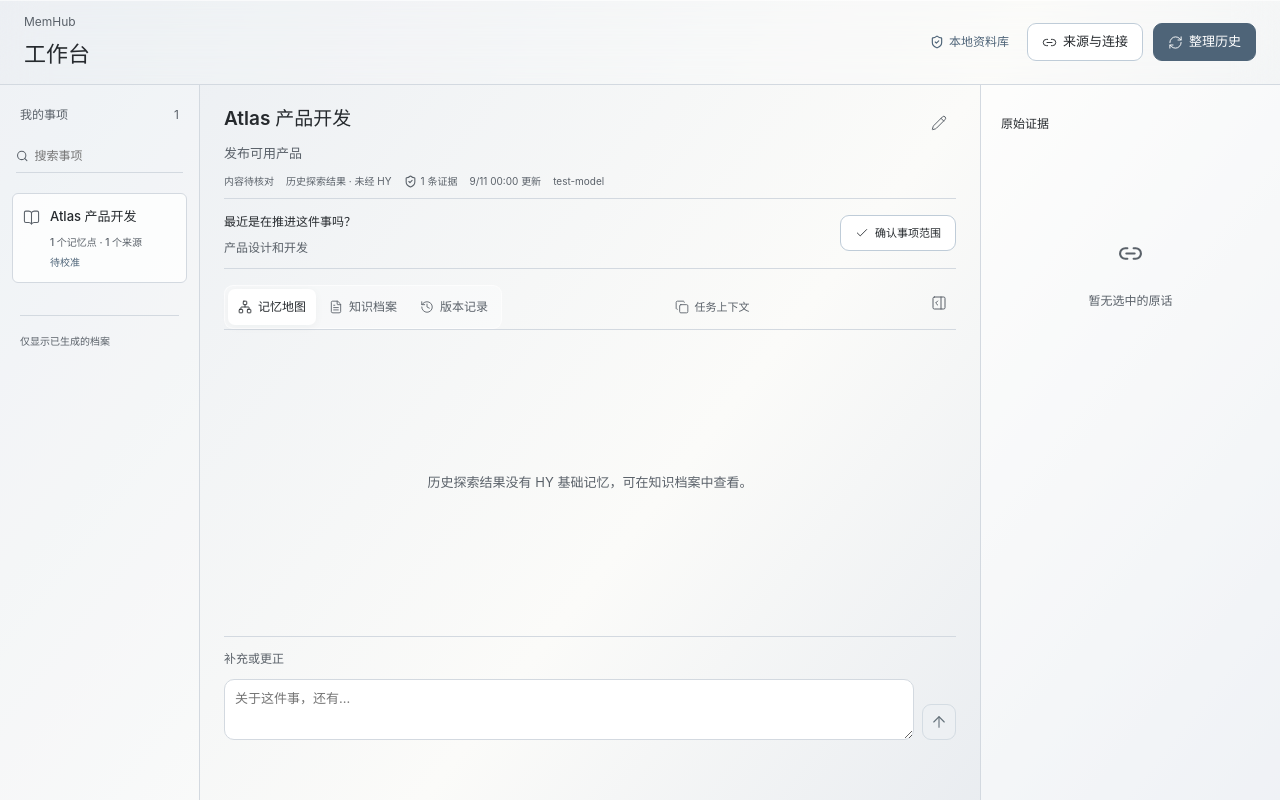
Test: clears history and ignores its late response after source revocation
Click the tab "版本记录". click: (454, 307)
box: [410,289,498,325]
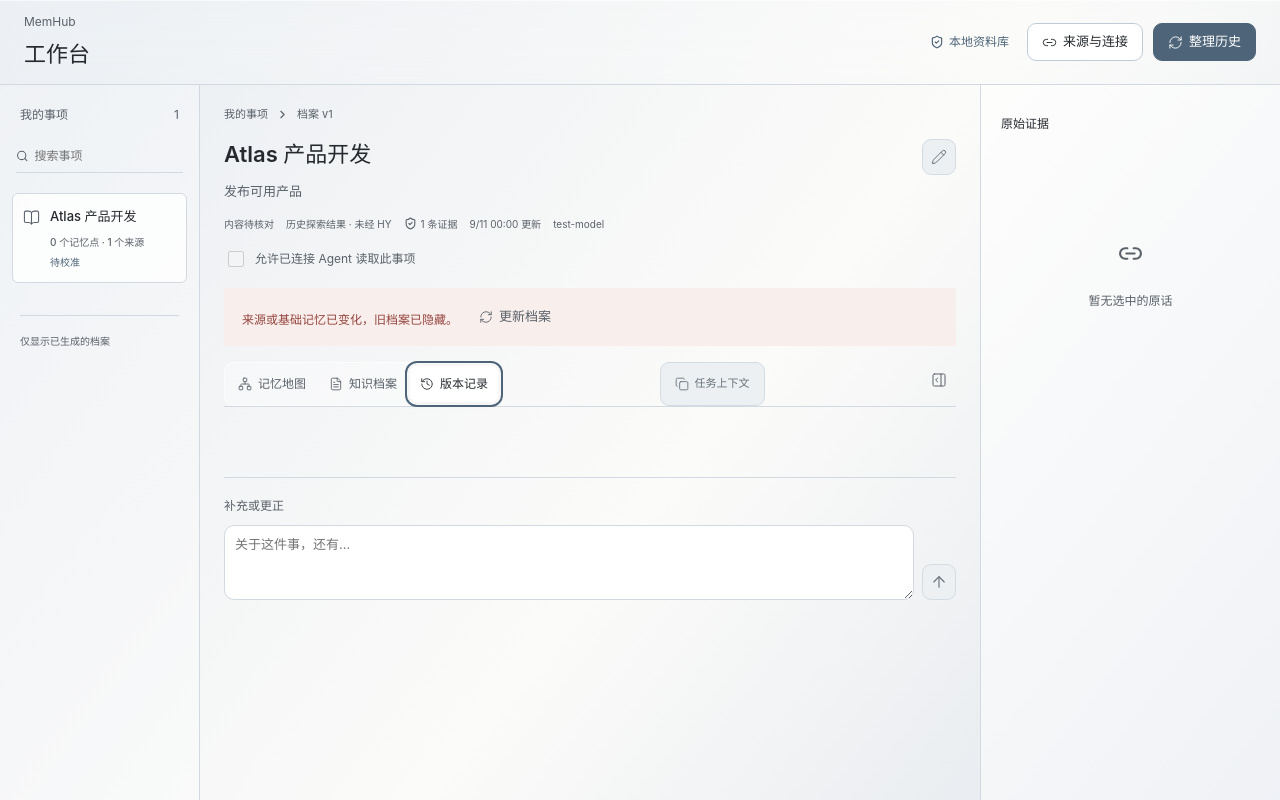
Check: the text "来源或基础记忆已变化，旧档案已隐藏。 更新档案" is shown, box [224,288,956,346]
